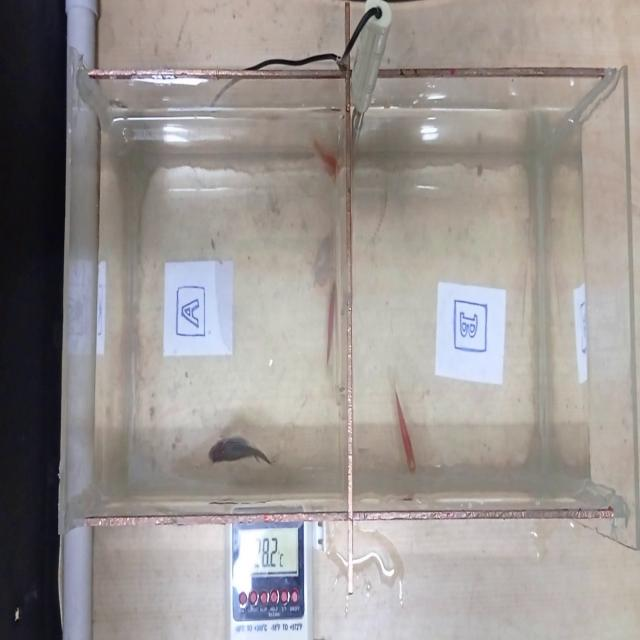Fish A1: (200, 422, 286, 484)
Fish A2: (312, 133, 346, 199)
Fish A3: (323, 269, 342, 401)
Fish B: (385, 360, 426, 484)
